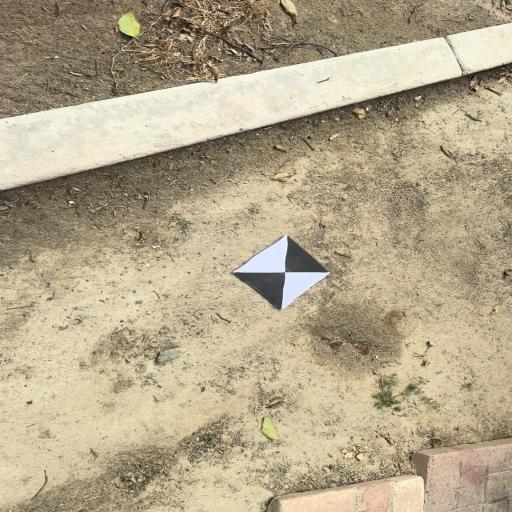target: (234, 235, 331, 308)
